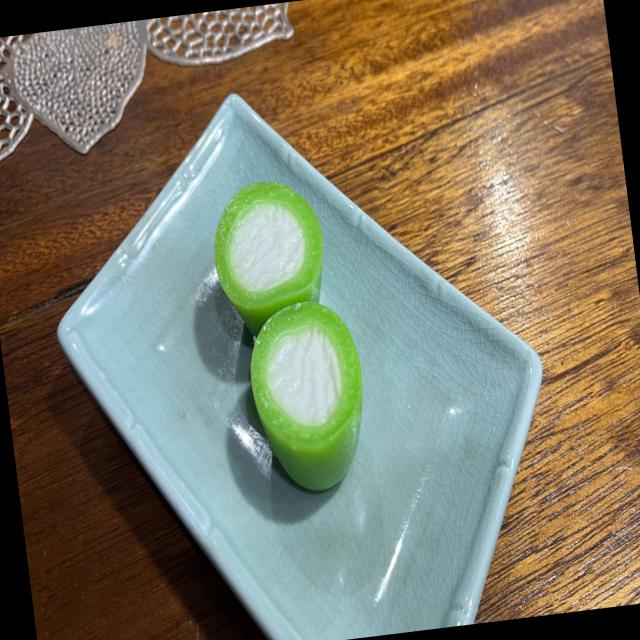nona-manis: (250, 301, 362, 491), (214, 181, 323, 335)
